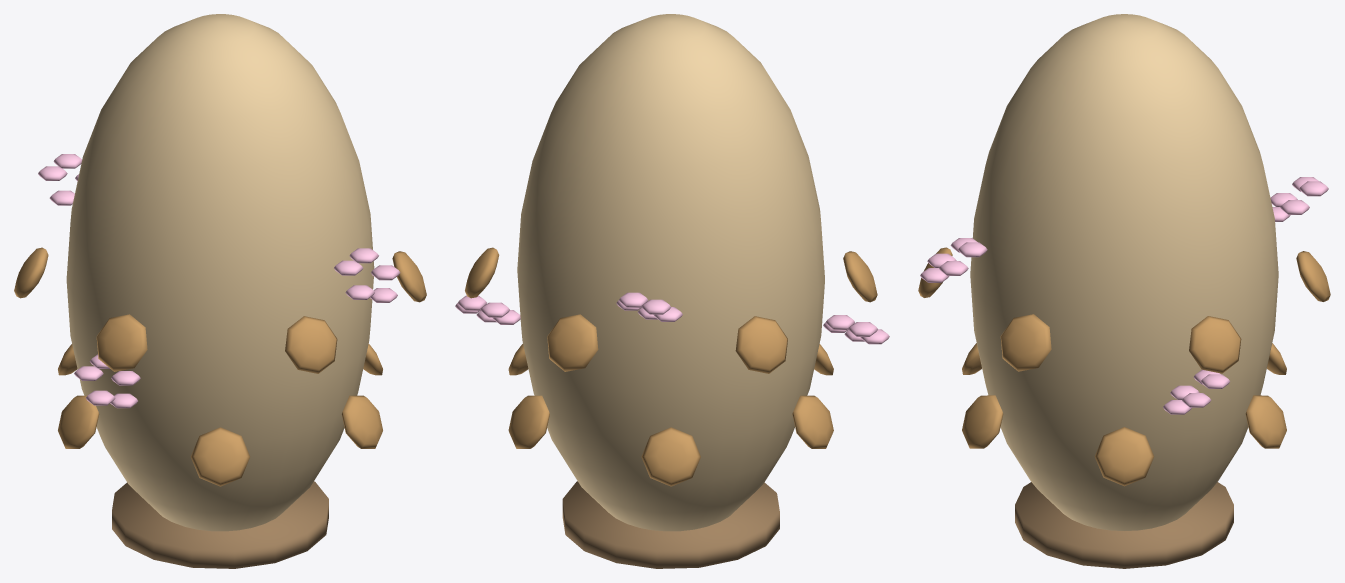
Rendered from egg_desert_06.glb.
3 renders of one model, left to right at view 1: azimuth 30°, elevation 25°; view 2: azimuth 150°, elevation 25°; view 3: azimuth 270°, elevation 25°, orthographic.
Parts seen in each view (by area): view 1: ball; view 2: ball; view 3: ball.
Boxes of the visible parts, left/top/right/bottom form: ball: left=14, top=14, right=426, bottom=568; ball: left=455, top=14, right=889, bottom=568; ball: left=918, top=14, right=1330, bottom=568.
Size of the model in its own units: 0.8102 by 1.12 by 0.8291.
